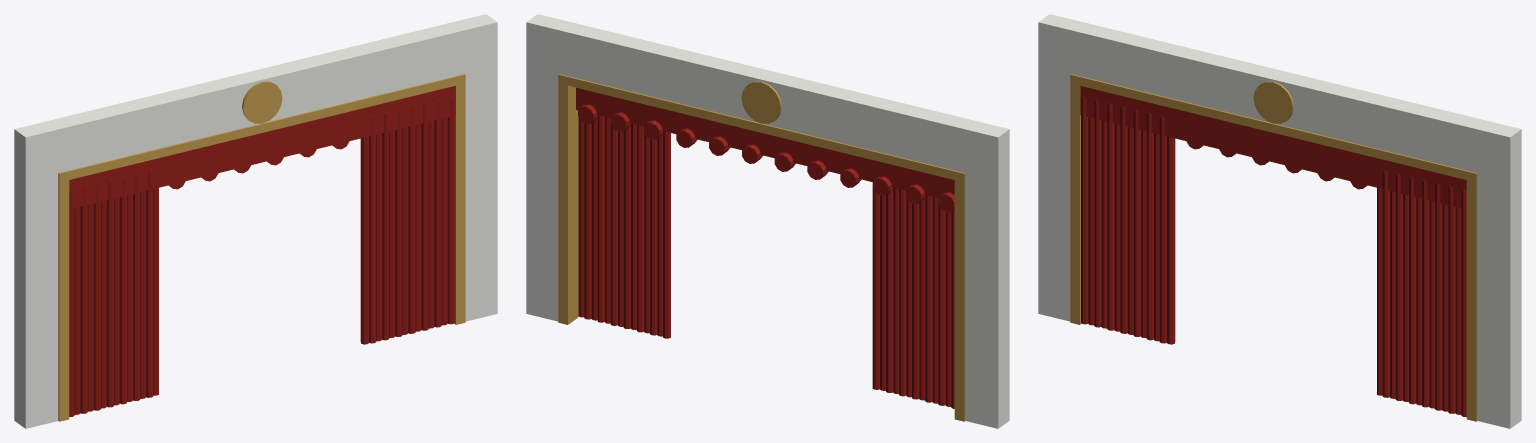
The model's file is venue.stage.proscenium.glb.
3 renders of one model, left to right at view 1: azimuth 30°, elevation 25°; view 2: azimuth 150°, elevation 25°; view 3: azimuth 330°, elevation 25°, orthographic.
Parts seen in each view (by area): view 1: curtain__fabric_red, main__paint_white, main__brass; view 2: curtain__fabric_red, main__paint_white, main__brass; view 3: curtain__fabric_red, main__paint_white, main__brass.
Boxes of the visible parts, <box> form: curtain__fabric_red: <box>69,86,455,416</box>; main__paint_white: <box>14,14,497,428</box>; main__brass: <box>58,74,465,421</box>; curtain__fabric_red: <box>576,87,954,408</box>; main__paint_white: <box>526,14,1009,428</box>; main__brass: <box>558,74,965,421</box>; curtain__fabric_red: <box>1080,86,1466,416</box>; main__paint_white: <box>1038,14,1521,428</box>; main__brass: <box>1070,74,1477,421</box>.
Bounding box in the file's own units: 14.4 × 8.5 × 0.72.
